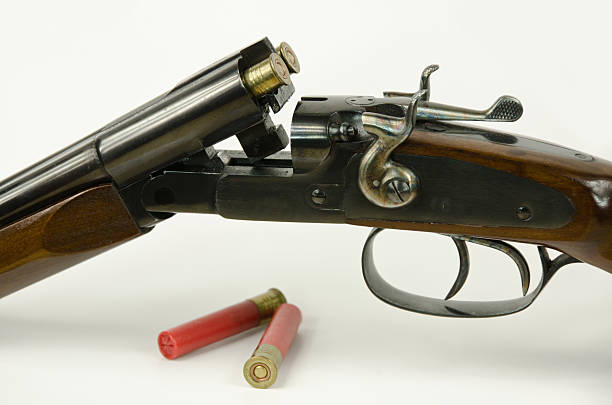shotgun: (2, 31, 612, 314)
